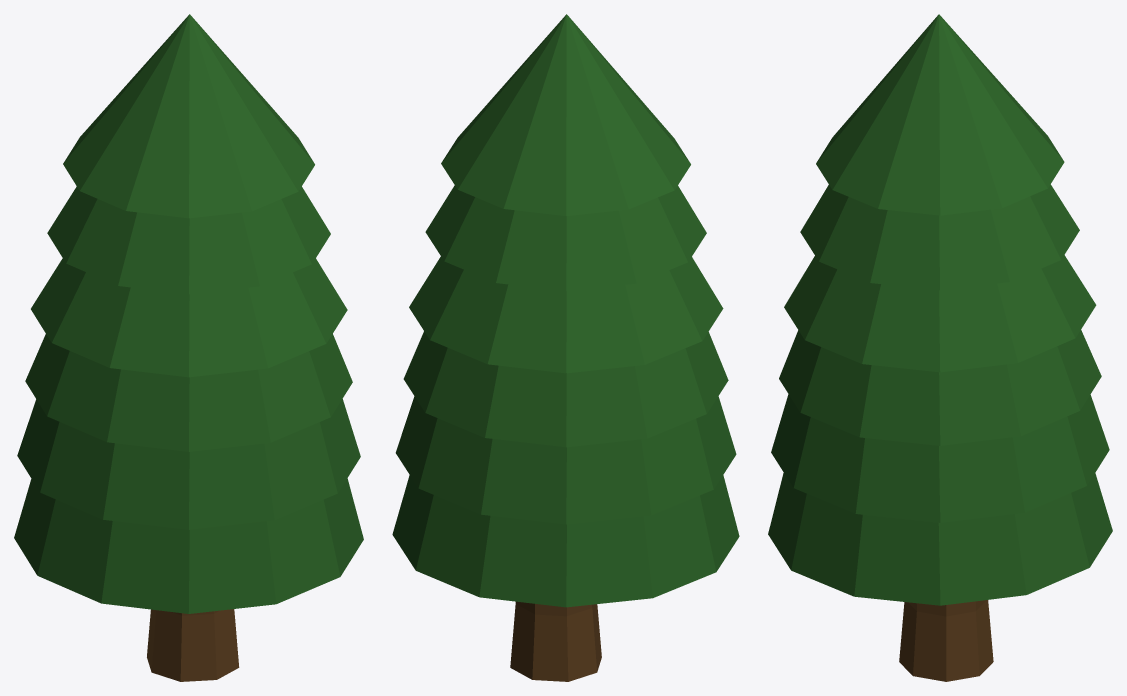
Rendered from Tree3.1.fbx.
The picture shows the model from 3 angles, left to right: view 1: azimuth 30°, elevation 25°; view 2: azimuth 150°, elevation 25°; view 3: azimuth 270°, elevation 25°; orthographic projection.
Parts seen in each view (by area): view 1: Tree3.1; view 2: Tree3.1; view 3: Tree3.1.
Part boxes in pixels (bbox=[...]): Tree3.1: bbox=[14, 14, 363, 681]; Tree3.1: bbox=[392, 14, 739, 681]; Tree3.1: bbox=[768, 14, 1112, 681].
Bounding box in the file's own units: 321 × 660 × 320.
